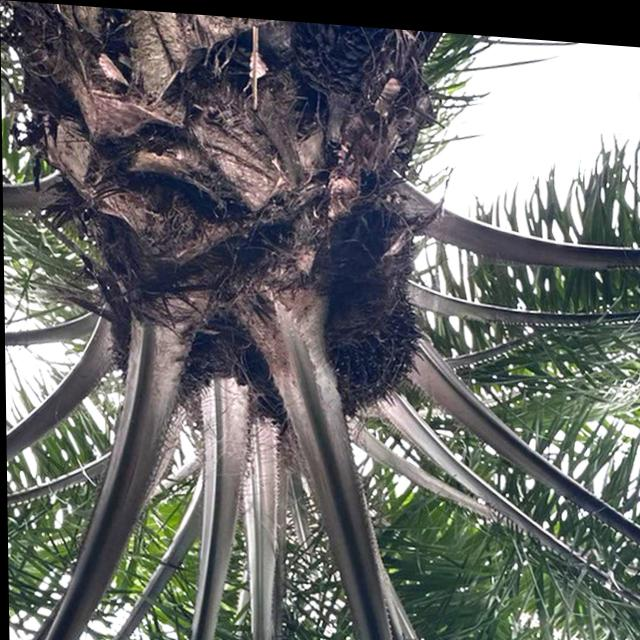unripe: (301, 260, 429, 423), (97, 305, 230, 430)
